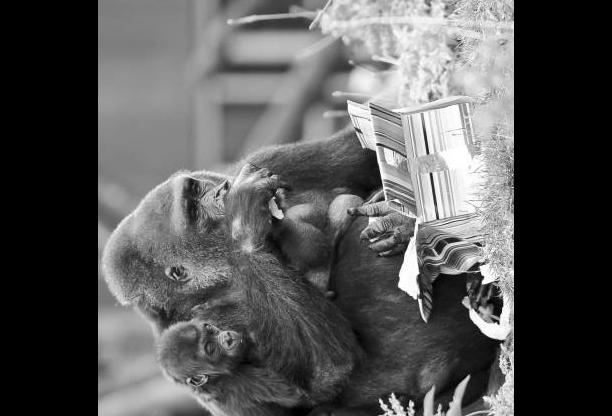gorille_Autres: (98, 107, 373, 416), (164, 294, 379, 416)
